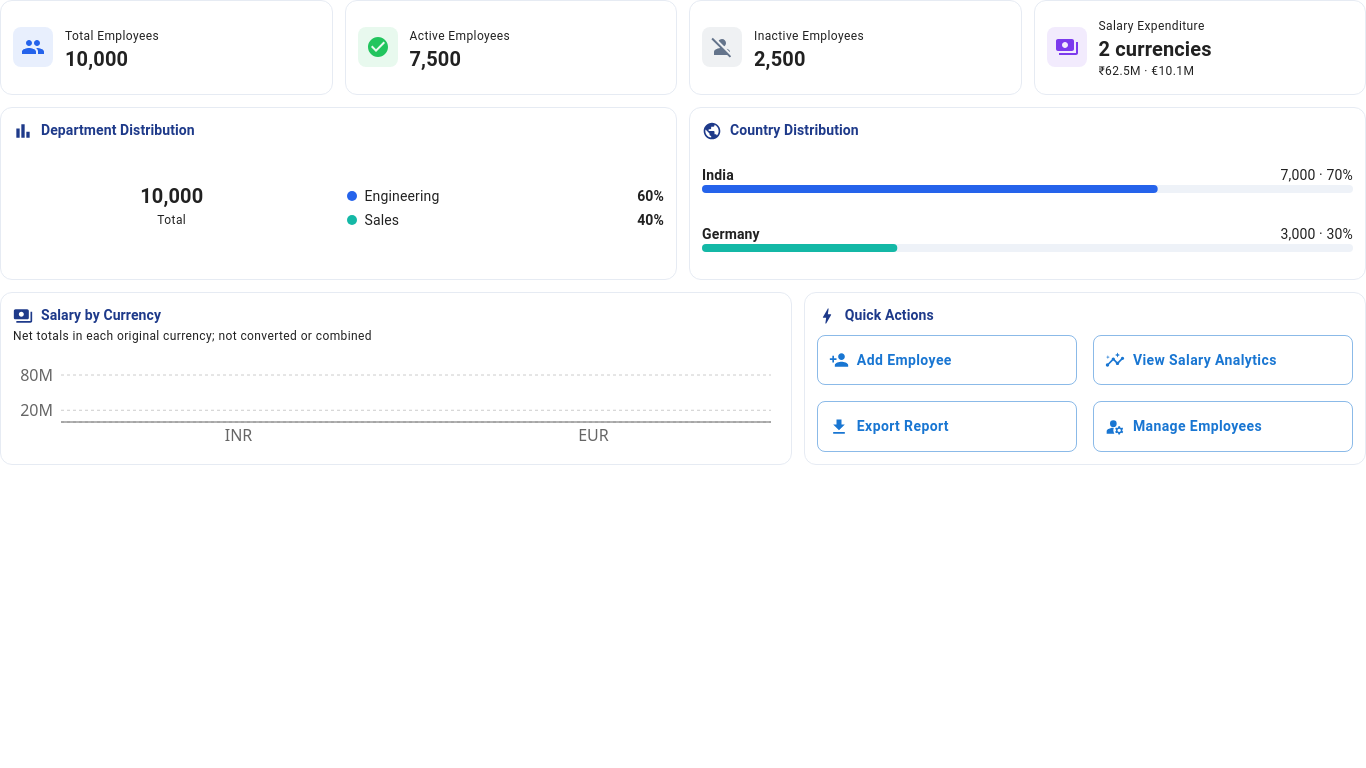
shows an error when the export fails
The width and height of the screenshot is (1366, 768).
Expected: the heading "2 currencies" is shown, [1098, 37, 1212, 62]
Click the button "Export Report": (947, 427) [817, 401, 1077, 452]
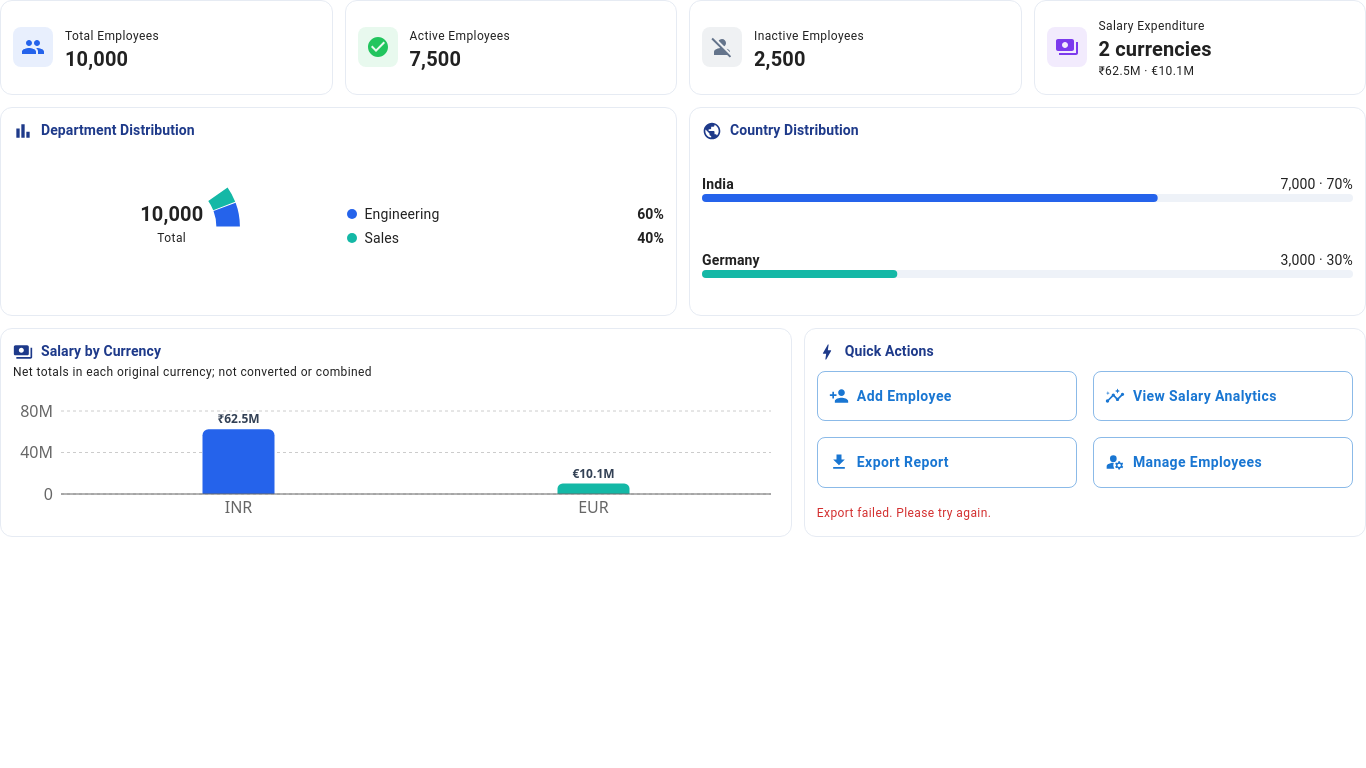
Result: the text "Export failed. Please try again." is shown at [817, 506, 991, 520]
